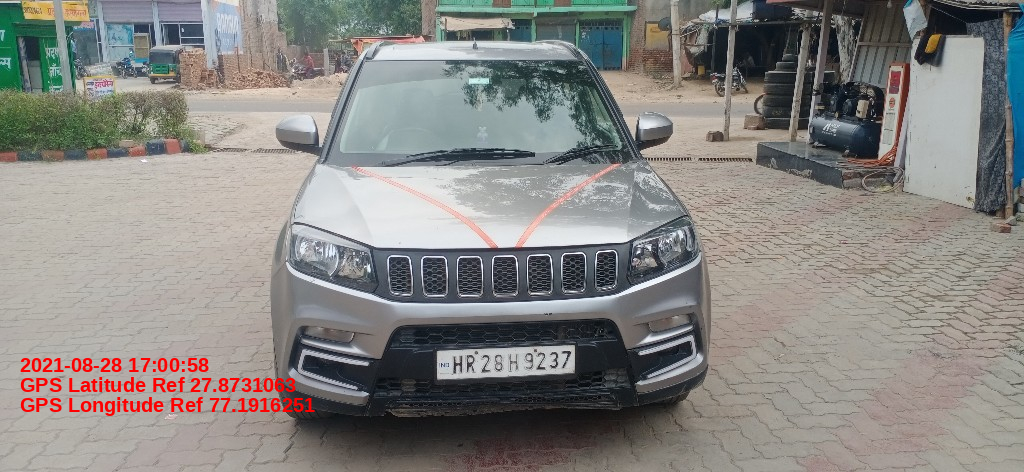Scratched: (678, 298, 695, 311), (541, 310, 556, 318)
